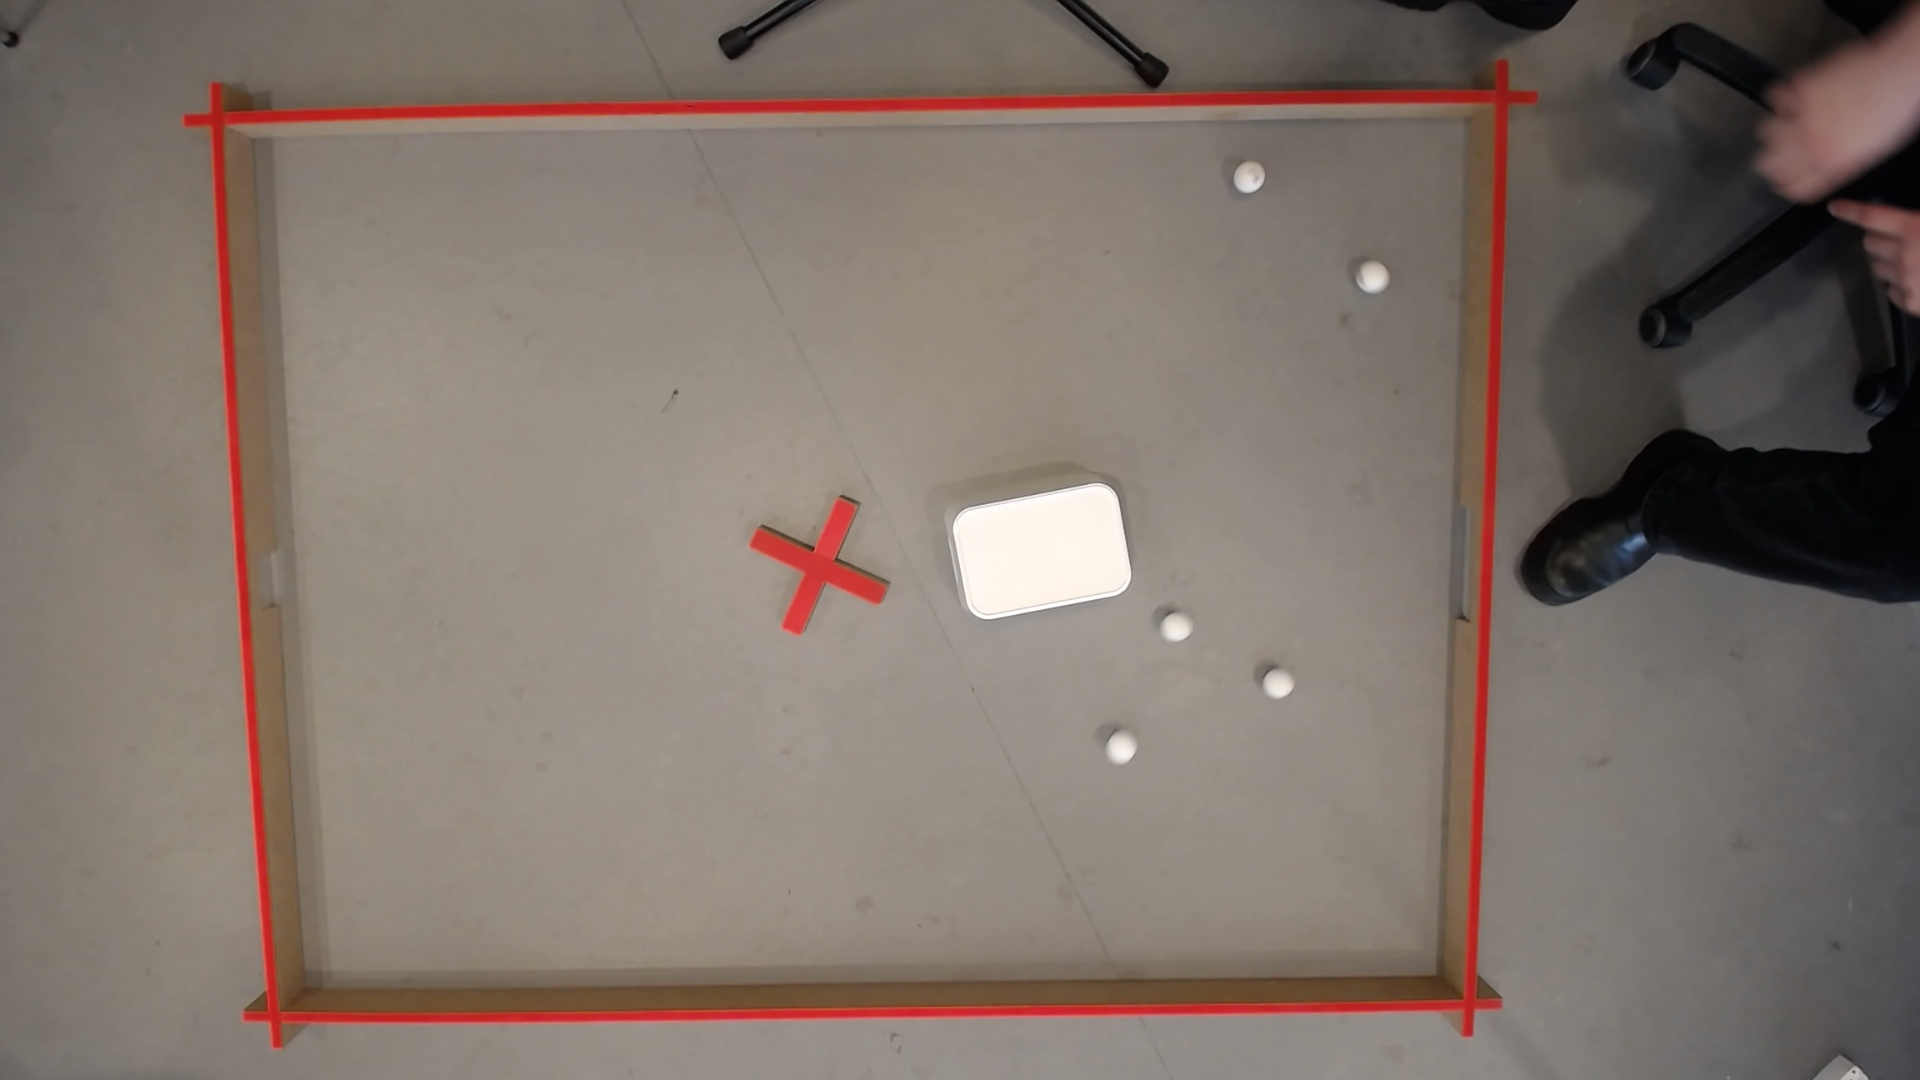balls: (947, 477, 1135, 624), (1102, 732, 1138, 765), (1262, 670, 1294, 700), (1160, 613, 1191, 644), (1234, 169, 1262, 195)
car: (1364, 270, 1383, 290)
